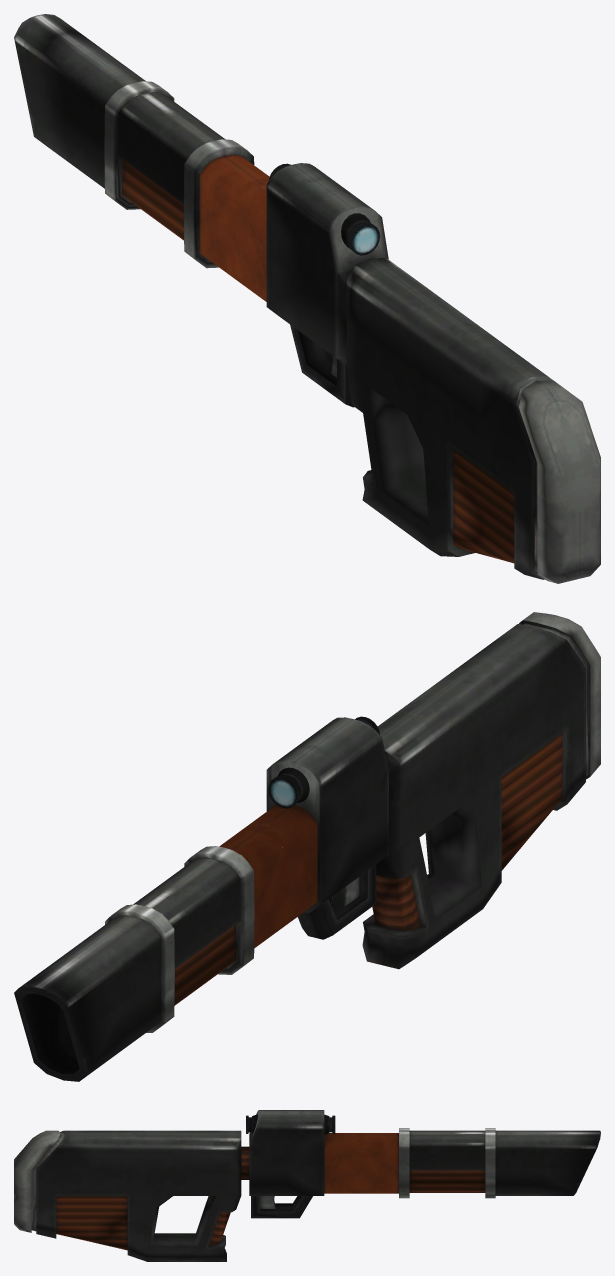
File: beamrifle.obj
The picture shows the model from 3 angles, top to bottom: view 1: azimuth 30°, elevation 25°; view 2: azimuth 150°, elevation 25°; view 3: azimuth 270°, elevation 25°; orthographic projection. The views are drawn at different scales.
Visible parts, largest first — view 1: Handle1; view 2: Handle1; view 3: Handle1.
Boxes of the visible parts, x1=… form: Handle1: x1=14, y1=14, x2=600, y2=583; Handle1: x1=14, y1=612, x2=600, y2=1081; Handle1: x1=14, y1=1110, x2=600, y2=1261.
Size of the model in its own units: 0.31 by 1.3 by 4.78.
1 material, 1 textured.
